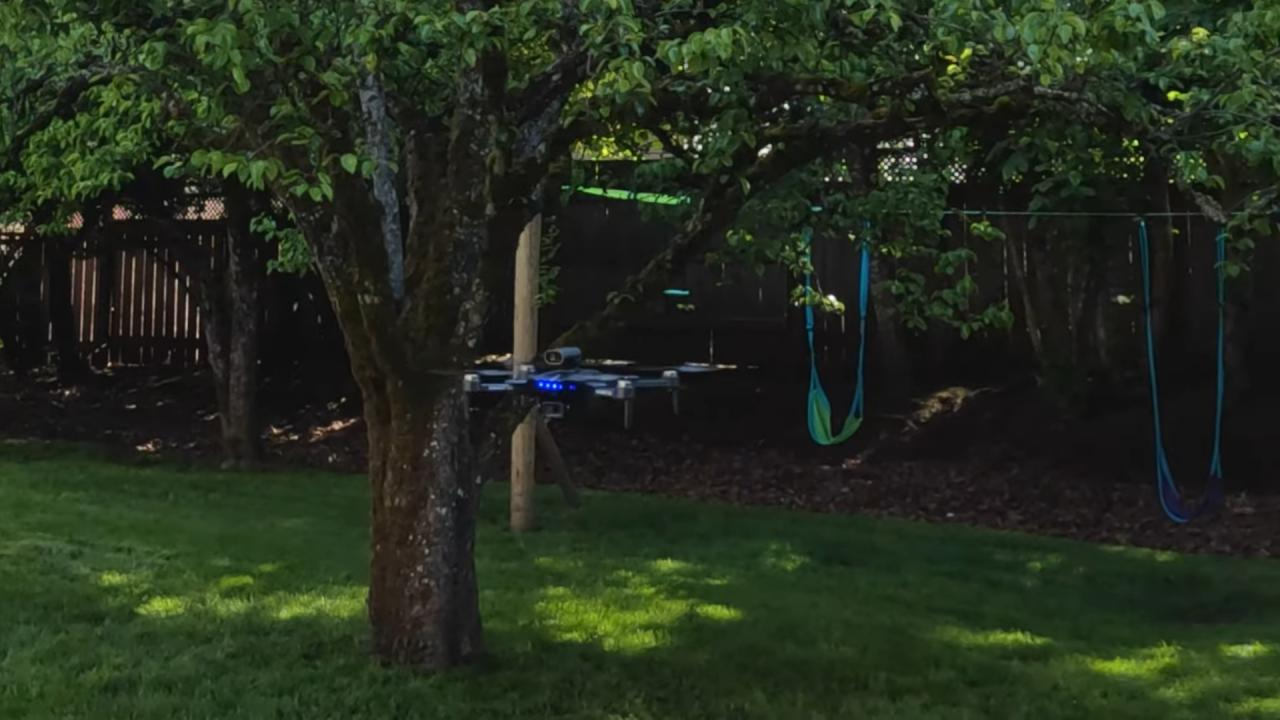Drone: (416, 335, 742, 440)
